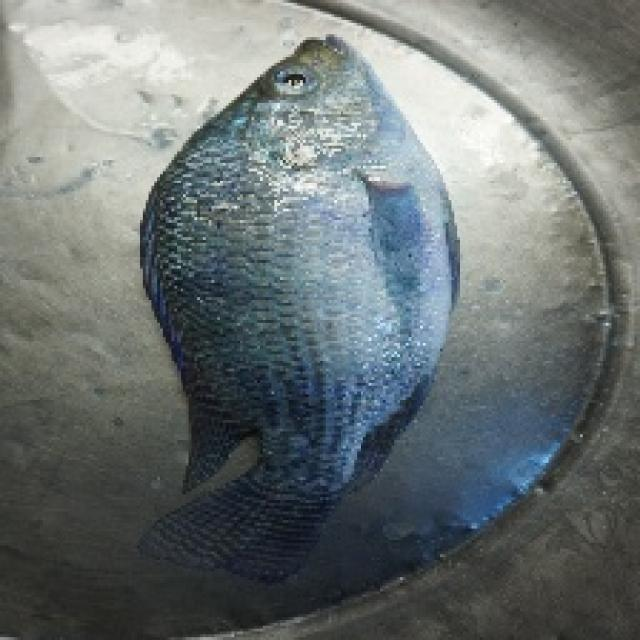Fresh: (144, 15, 485, 445)
